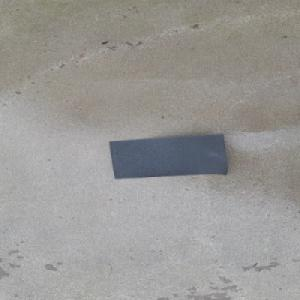PaintChip: (108, 133, 229, 179)
